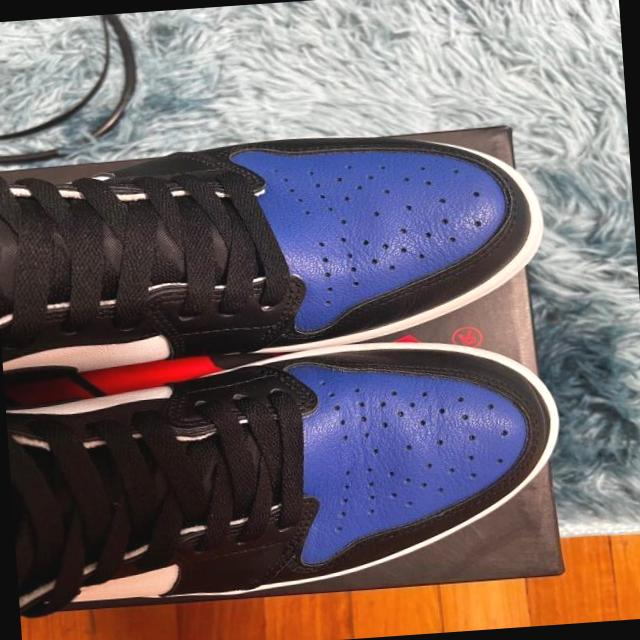nike_original_jordan: (2, 329, 574, 633), (0, 119, 547, 382)
